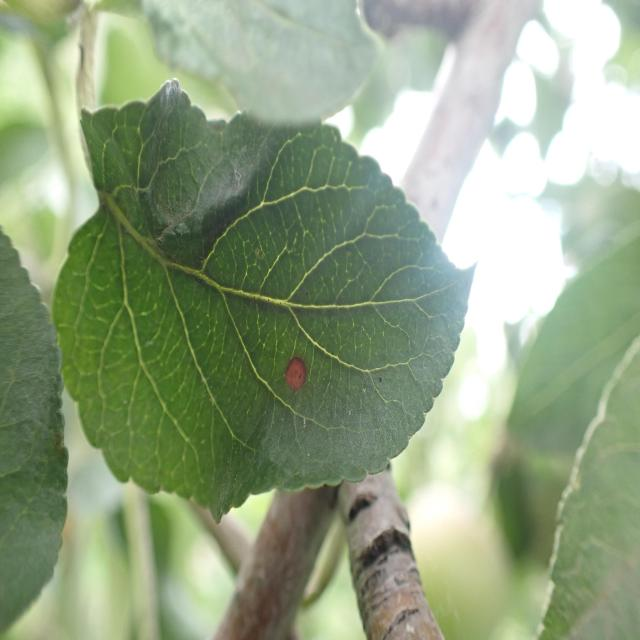Black Rot: (281, 343, 320, 397)
